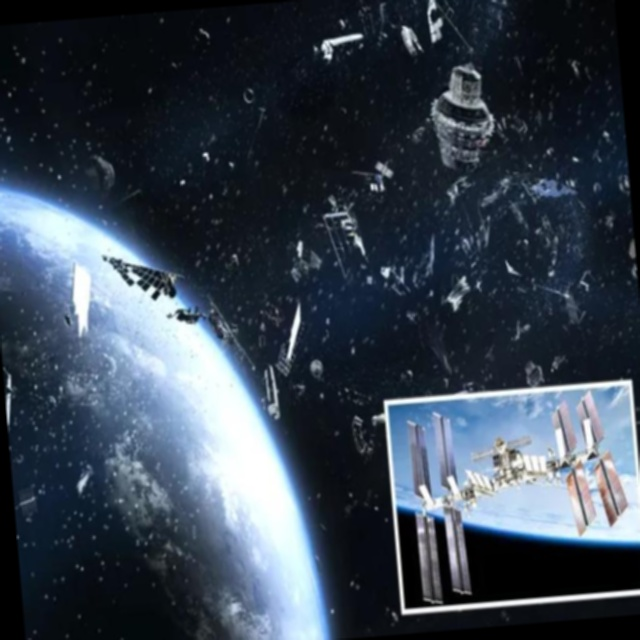large_debris: (419, 45, 507, 187), (311, 188, 379, 299), (253, 288, 318, 394), (106, 237, 189, 316), (304, 0, 397, 70), (420, 0, 449, 48)
